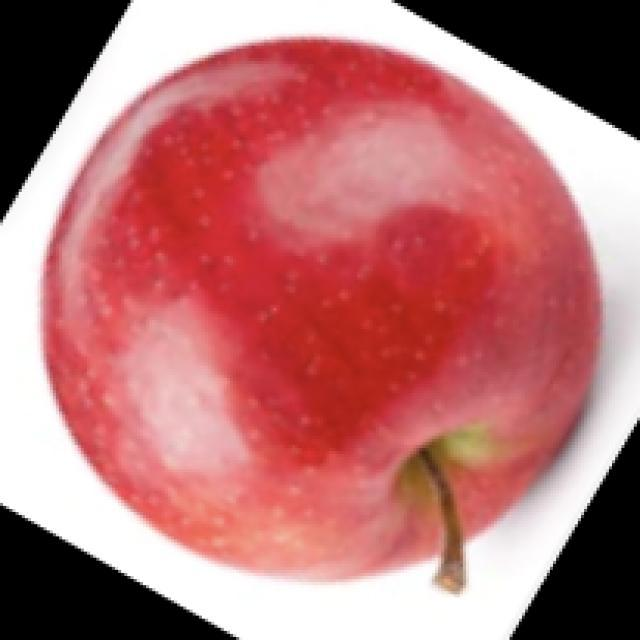Fresh Apple: (76, 45, 586, 597)
